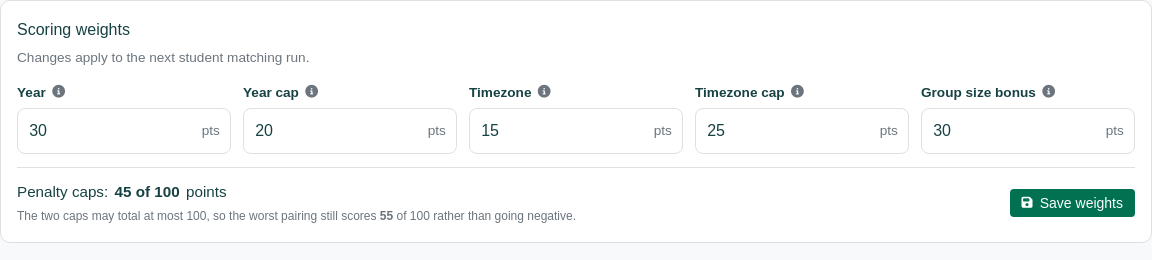
MatchingConfigPanel › the penalty ceiling › blocks saving once the caps could wipe out the whole base score
The image size is (1152, 260).
Expected: the button "Save weights" is enabled, [1010,189,1135,217]
Replace the text in the number field labelled "Year cap" with "90": (350, 131) [243,108,457,154]
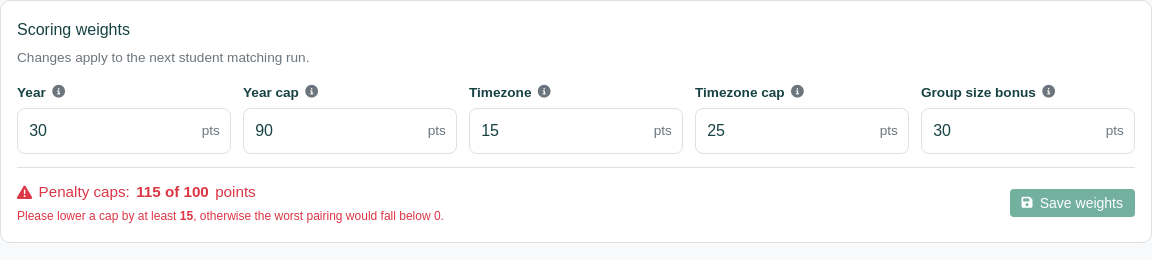
Result: the text "Penalty caps: 115 of 100" is shown at [17,183,256,200]
Result: the button "Save weights" is disabled at [1010,189,1135,217]
Replace the text in the number field labelled "Timezone cap" with "10": (802, 131) [695,108,909,154]
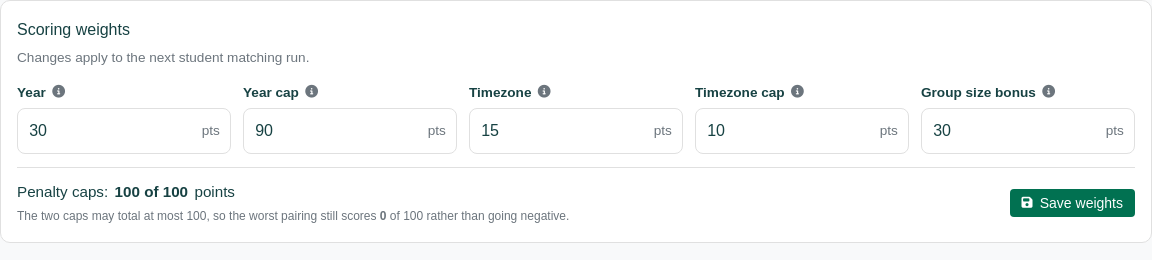
Result: the button "Save weights" is enabled at [1010,189,1135,217]
